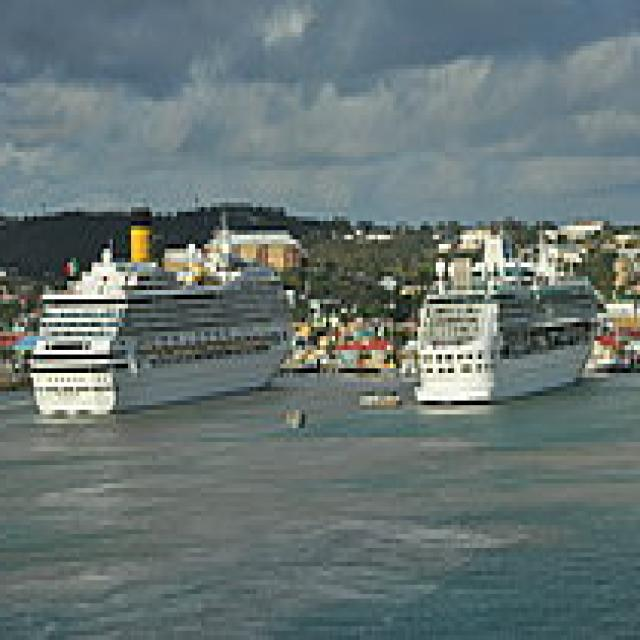Cruise: (30, 198, 305, 419), (418, 207, 610, 401)
